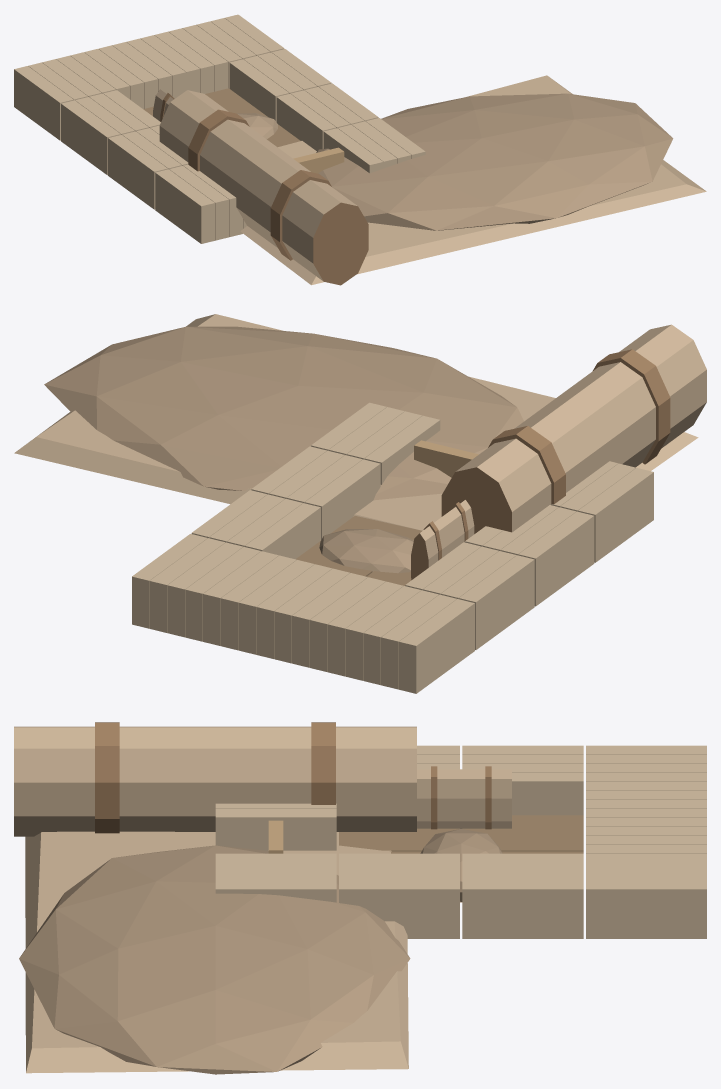
File: building_mud_brick_house_foundation.glb
3 renders of one model, top to bottom at view 1: azimuth 30°, elevation 25°; view 2: azimuth 150°, elevation 25°; view 3: azimuth 270°, elevation 25°, orthographic. The views are drawn at different scales.
Parts seen in each view (by area): view 1: building_mud_brick_house_foundation; view 2: building_mud_brick_house_foundation; view 3: building_mud_brick_house_foundation.
Part boxes in pixels (x1,y1,x2,y2): building_mud_brick_house_foundation: (14, 14, 706, 285); building_mud_brick_house_foundation: (14, 314, 706, 693); building_mud_brick_house_foundation: (14, 722, 706, 1074).
Size of the model in its own units: 1 by 0.2055 by 1.
